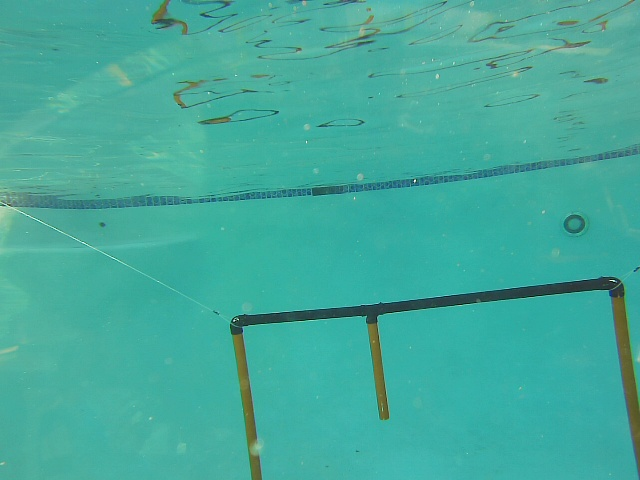Gate: (606, 291, 639, 467), (233, 331, 267, 480), (370, 316, 393, 421)
